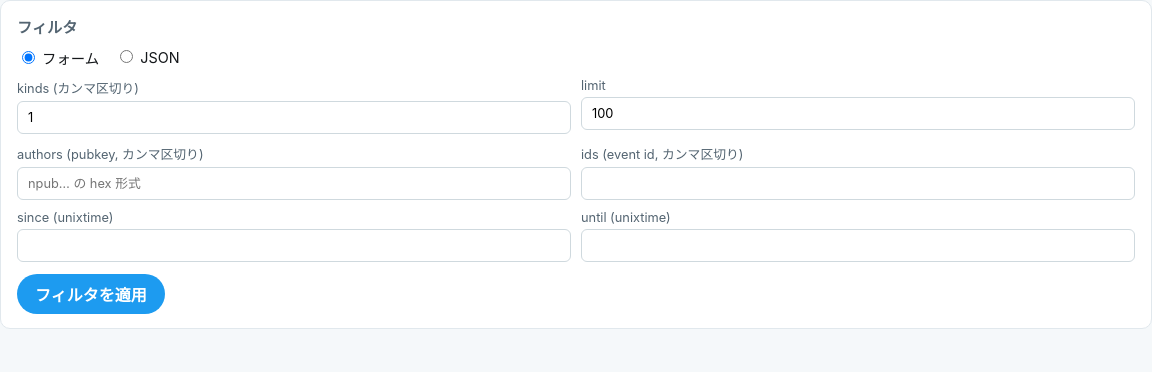
it: FilterForm › shows a validation error and does not submit on an invalid kind
Replace the text in the field with placeholder "1, 30023" with "abc" at (294, 118), box [17,101,571,134]
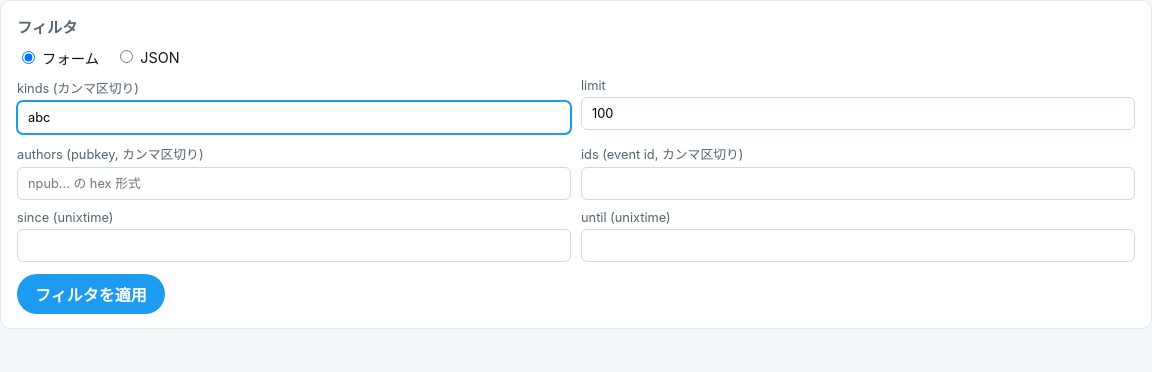
Click the button "フィルタを適用".
click(91, 294)  # box [17,274,165,314]
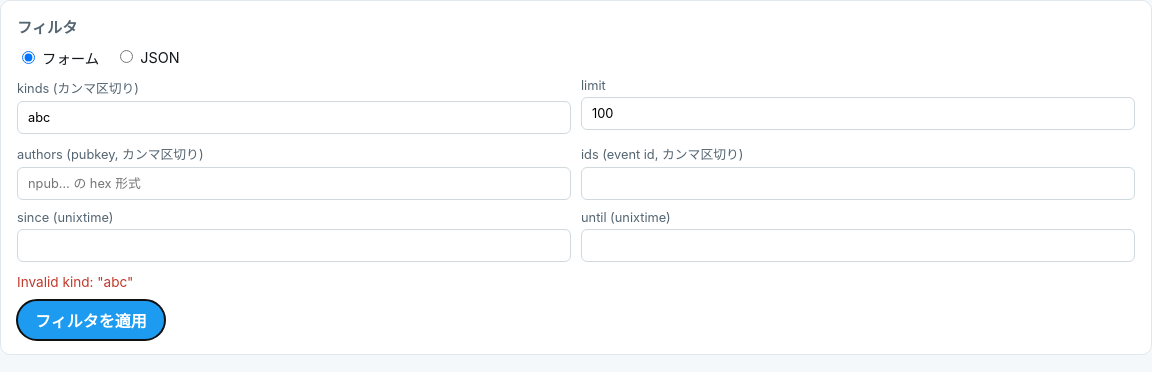
Expected: the message reads "Invalid kind: \"abc\"", [17,274,134,290]
